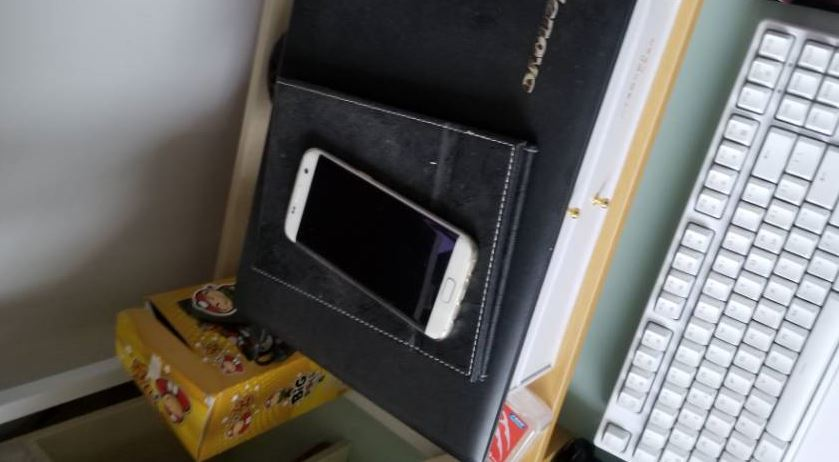mobil: (128, 144, 552, 343)
